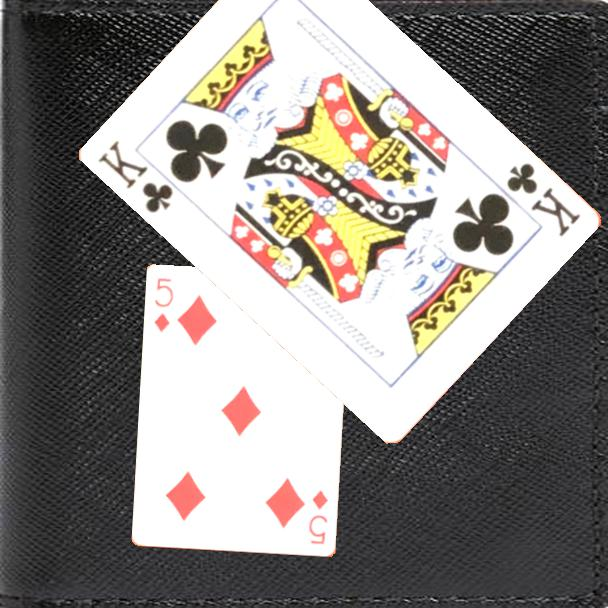c13: (503, 159, 585, 240), (95, 137, 177, 216)
d05: (305, 487, 331, 547), (151, 275, 176, 335)
